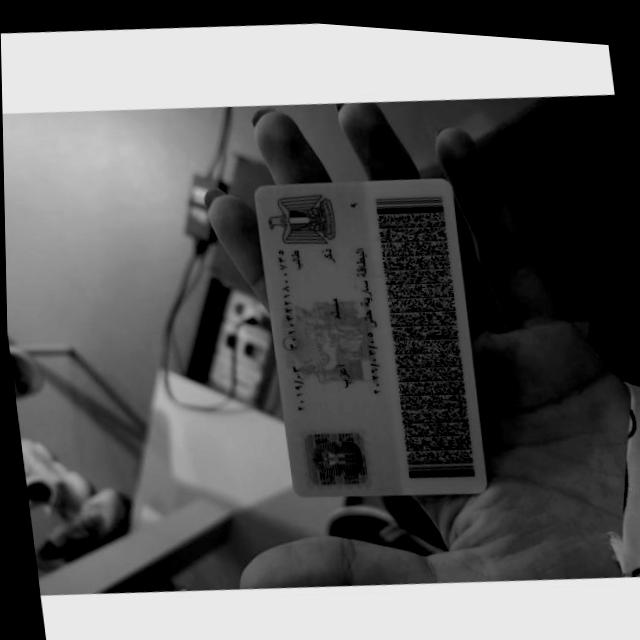id_card: (254, 178, 486, 495)
